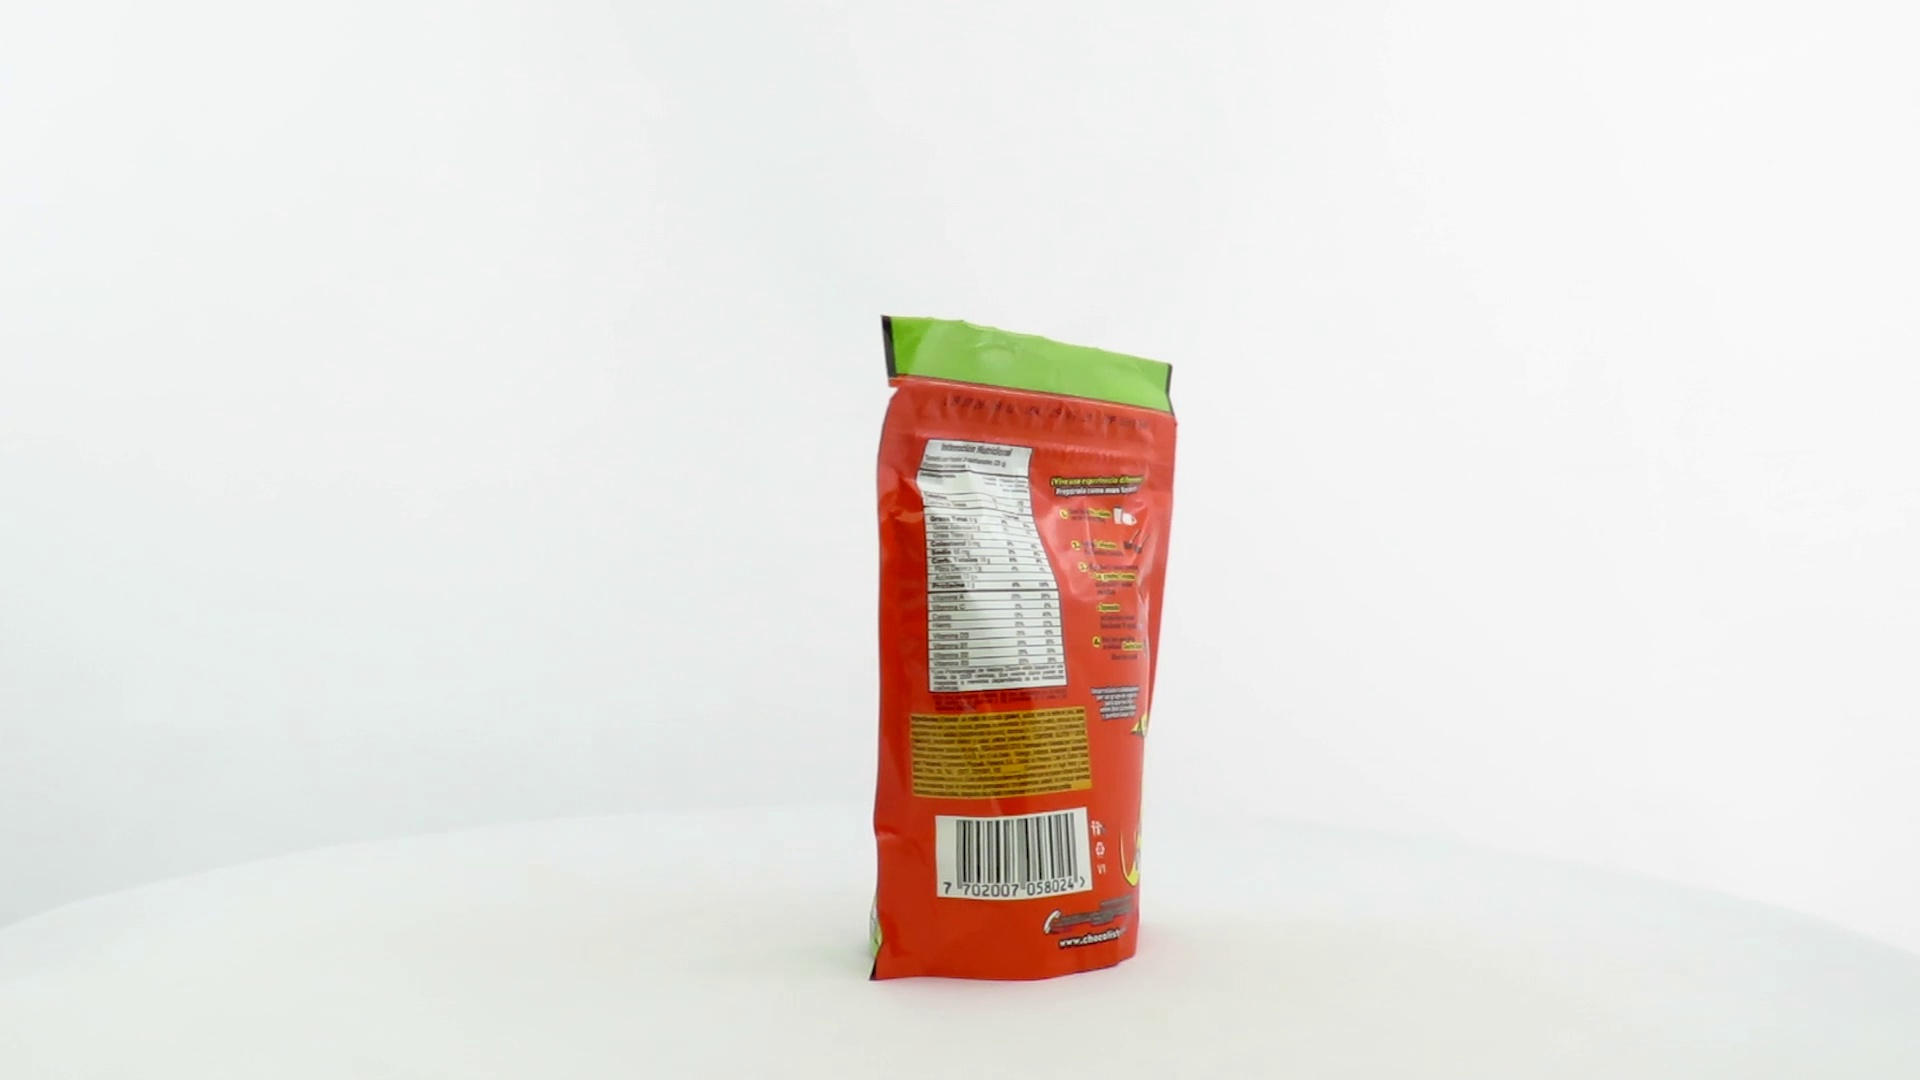COL0170102DYP10000: (860, 310, 1184, 986)
